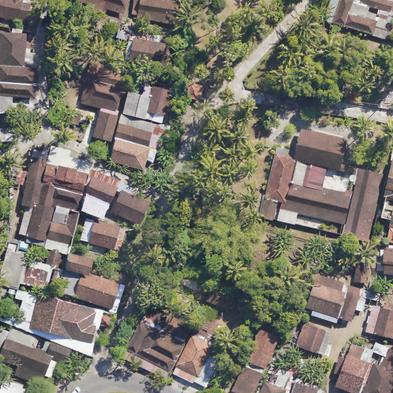building: (29, 296, 96, 344), (343, 168, 386, 242), (66, 253, 120, 309), (127, 322, 184, 372), (284, 184, 351, 225), (0, 339, 52, 385), (294, 129, 347, 171), (44, 212, 78, 267), (175, 335, 215, 378), (335, 344, 370, 393), (123, 86, 174, 119), (306, 275, 345, 318), (265, 153, 295, 204), (111, 190, 150, 225), (362, 349, 393, 393), (80, 80, 122, 111), (247, 329, 279, 369), (110, 139, 150, 171), (115, 114, 155, 146), (21, 158, 46, 208), (38, 183, 82, 211), (43, 164, 88, 191), (129, 38, 169, 68), (0, 243, 26, 288), (26, 204, 54, 242), (85, 61, 126, 86), (137, 0, 178, 25), (88, 220, 120, 250), (0, 32, 27, 66), (295, 324, 325, 353), (86, 177, 118, 204), (231, 367, 263, 393), (339, 285, 360, 322), (93, 111, 118, 142), (76, 0, 128, 14), (345, 14, 377, 35), (0, 66, 38, 83), (373, 308, 393, 339), (332, 0, 353, 26), (0, 83, 36, 98), (259, 199, 278, 221), (361, 0, 393, 12), (0, 380, 26, 393), (354, 262, 370, 283), (260, 381, 286, 393), (293, 383, 318, 393)
